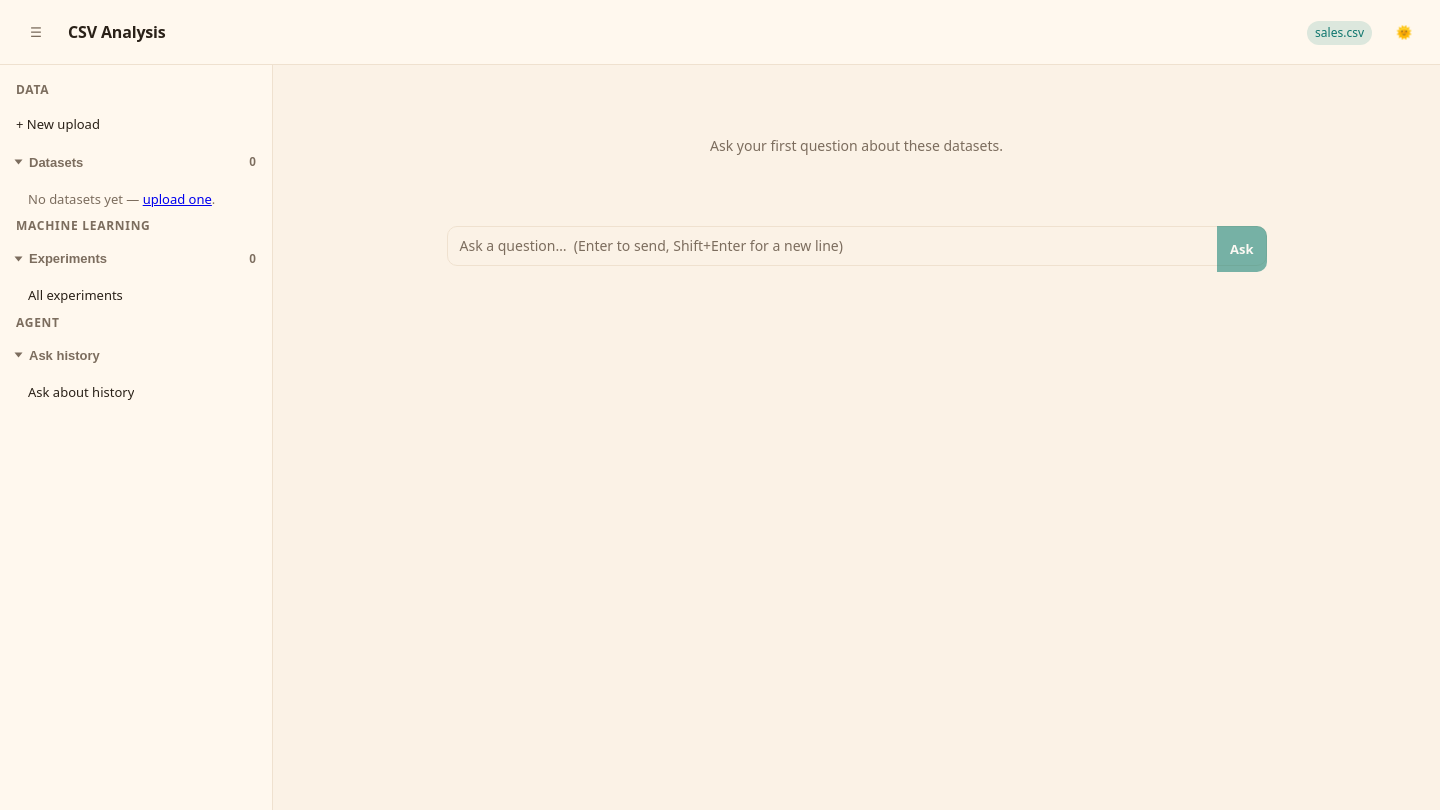
Test case: marks an optimistic turn as not sent when the request fails (#50)
Expected: the text "sales.csv" is shown, [1307,21,1372,45]
Type "why is revenue high?" into the text box labelled "question". click: x=856, y=246
box: [446,226,1266,266]
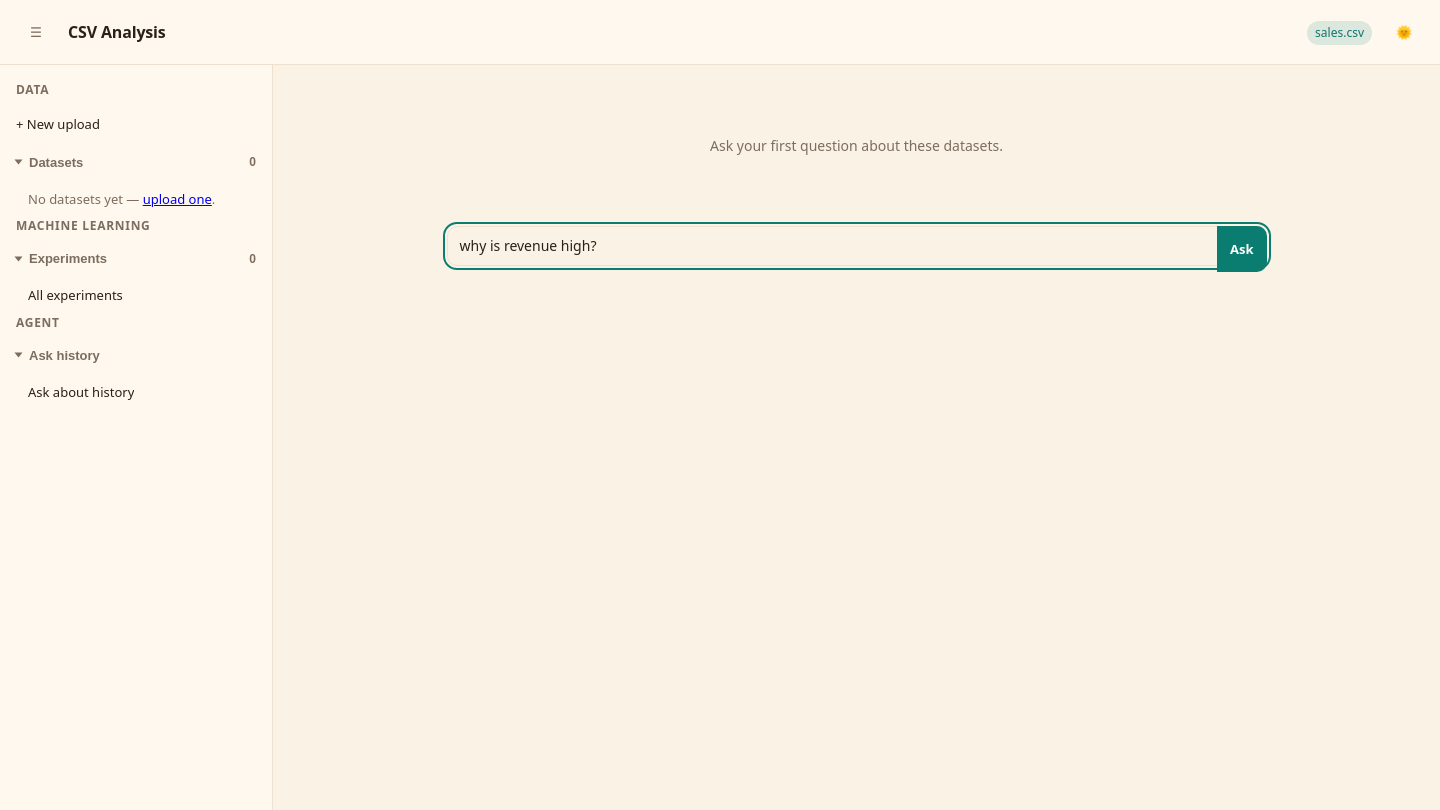
Click the button "Ask". click: x=1242, y=249
box: [1217,226,1266,272]
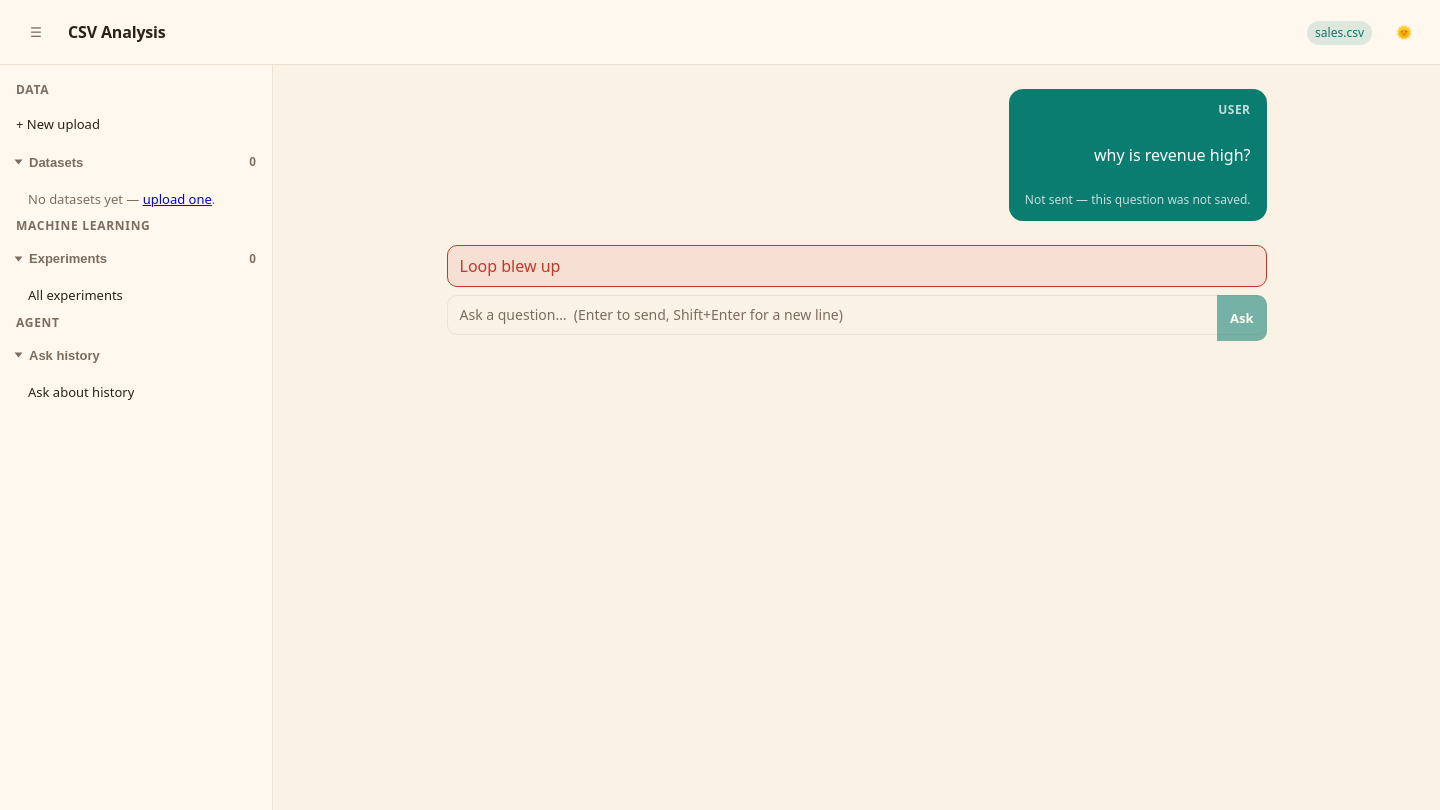
Now the text "why is revenue high?" is shown, box [1094,143,1250,167]
Now the text "Not sent — this question was not saved." is shown, box [1025,191,1250,209]
